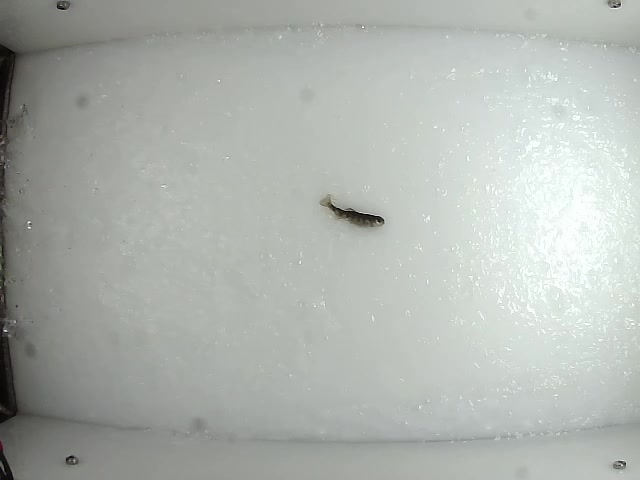fish: (318, 193, 386, 229)
